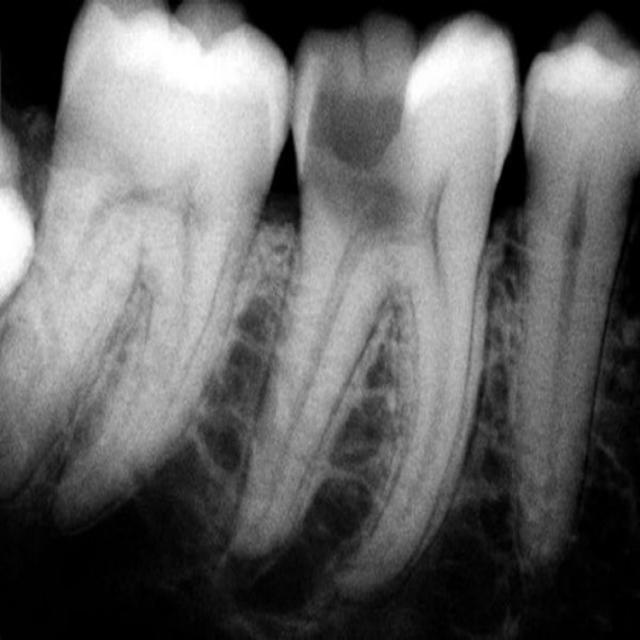Caries: (292, 6, 519, 579)
